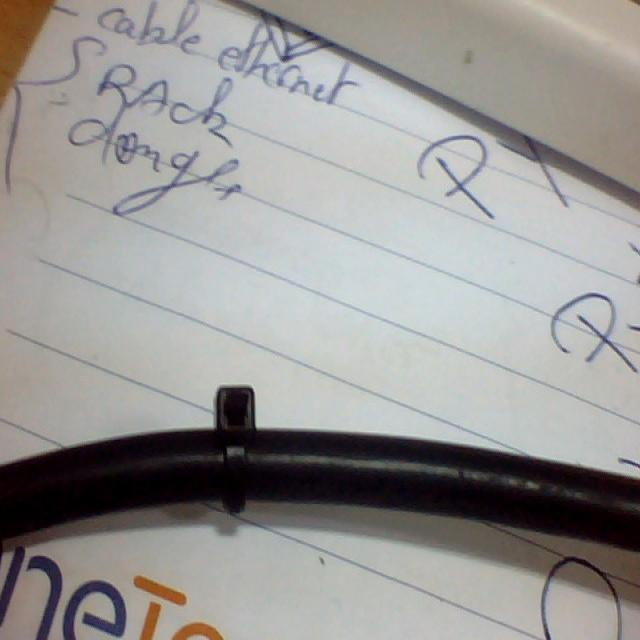cable-tie: (214, 385, 255, 513)
